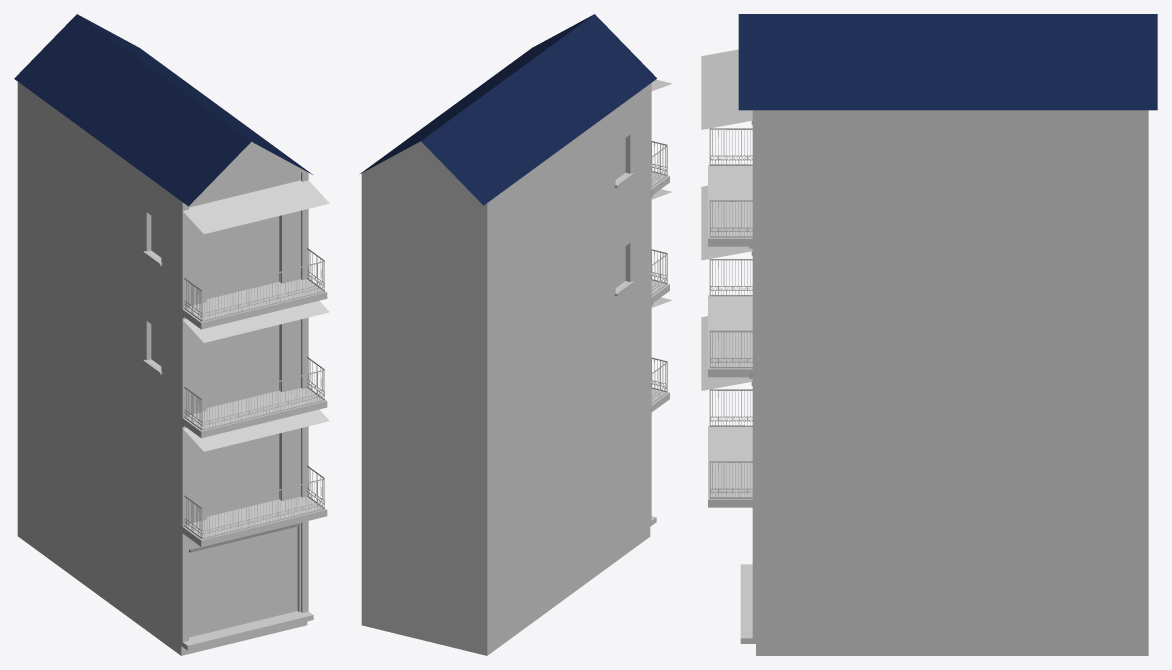
3 renders of one model, left to right at view 1: azimuth 30°, elevation 25°; view 2: azimuth 150°, elevation 25°; view 3: azimuth 270°, elevation 25°, orthographic. The views are drawn at different scales.
Visible parts, largest first — view 1: TH_D09_L_15_LOD0; view 2: TH_D09_L_15_LOD0; view 3: TH_D09_L_15_LOD0.
Part boxes in pixels (x1,y1,x2,y2): TH_D09_L_15_LOD0: [14, 14, 329, 655]; TH_D09_L_15_LOD0: [359, 14, 672, 655]; TH_D09_L_15_LOD0: [701, 14, 1157, 655].
Size of what is drawn, in the model's own units: 4.08 by 15.3 by 10.45.
